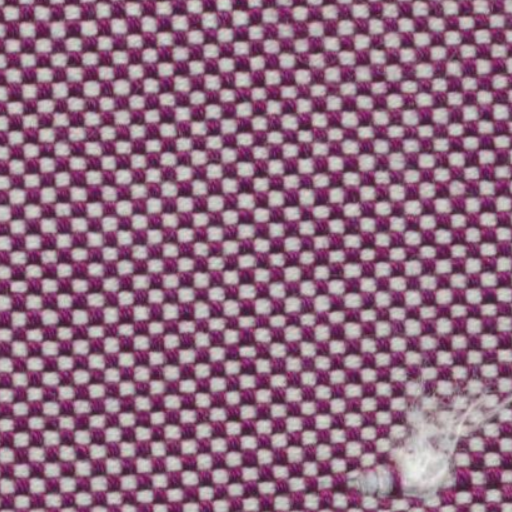DuanSha: (330, 382, 500, 499)
